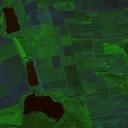alloviz: (21, 91, 65, 122), (1, 5, 22, 35), (24, 60, 39, 87)
